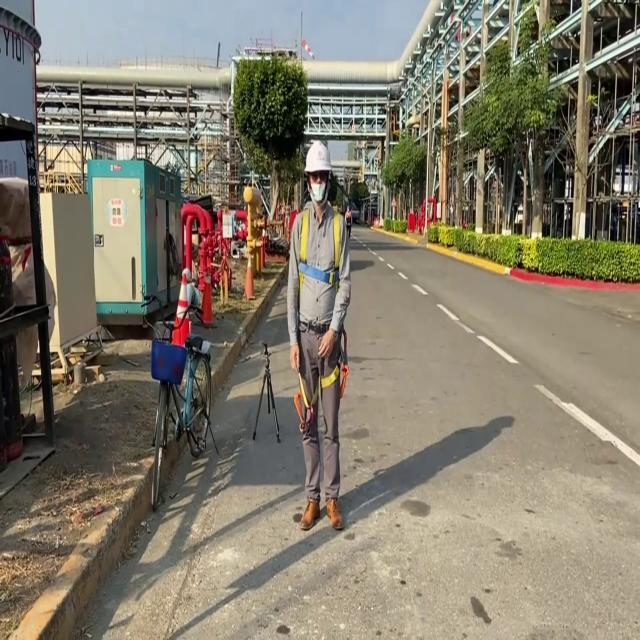Harness: (294, 330, 350, 434), (300, 209, 343, 286)
